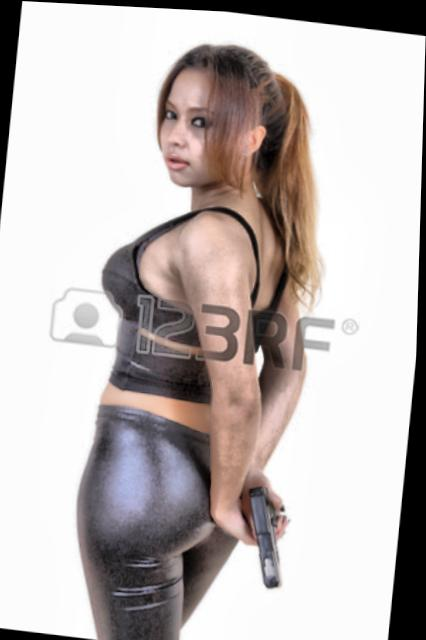pistol: (239, 477, 293, 587)
